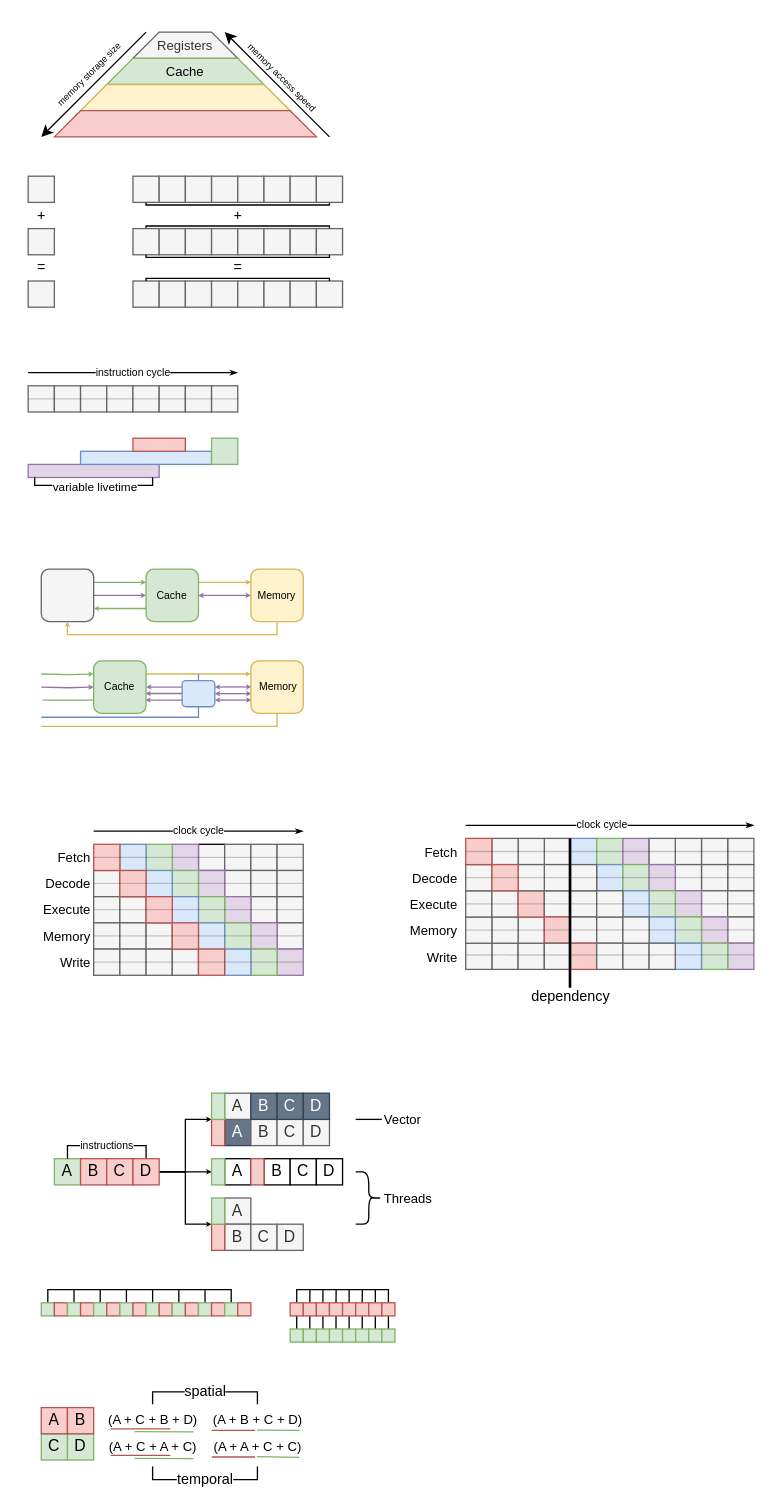
This 783x1510 diagram has some shape labels left out. The centre of each missing label's shape, as x and y in pixels:
"Buffer" goes at [198,693].
"Disk" goes at [184,123].
"Main Memory (RAM)" goes at [184,97].
"Processor" goes at [67,595].
